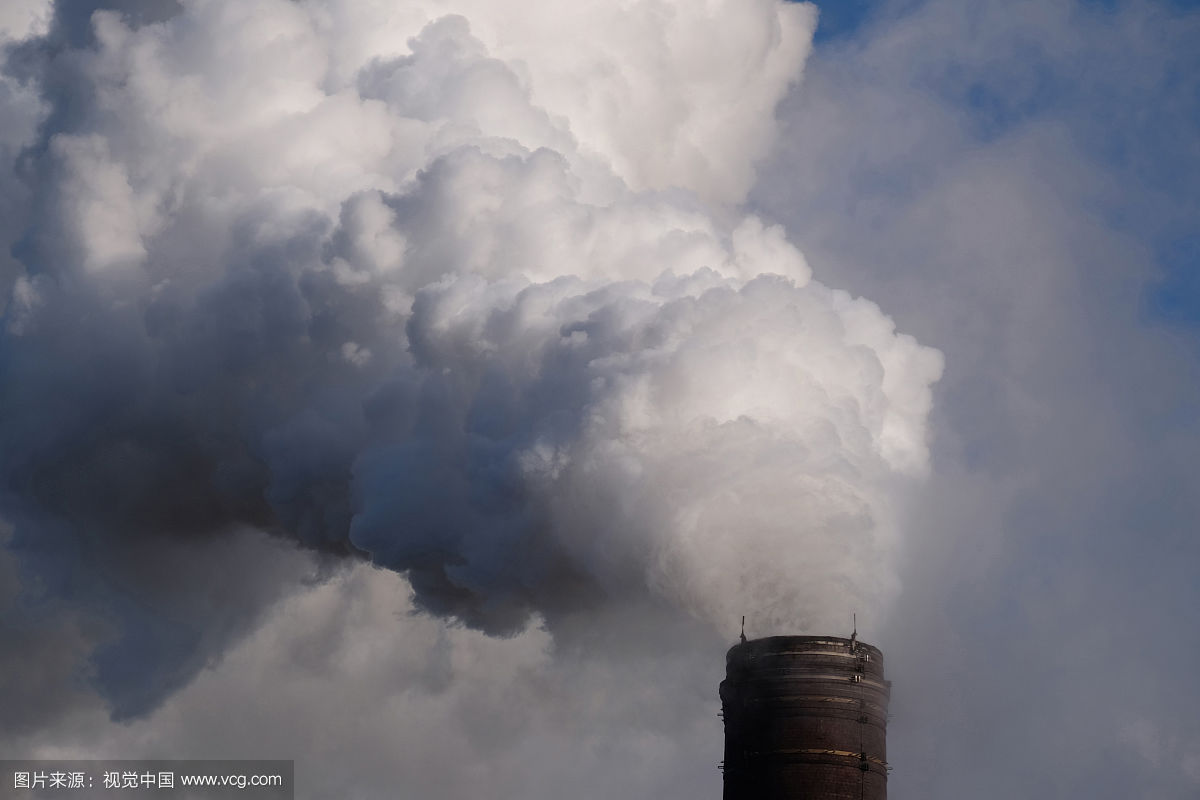dust: (350, 152, 948, 711)
